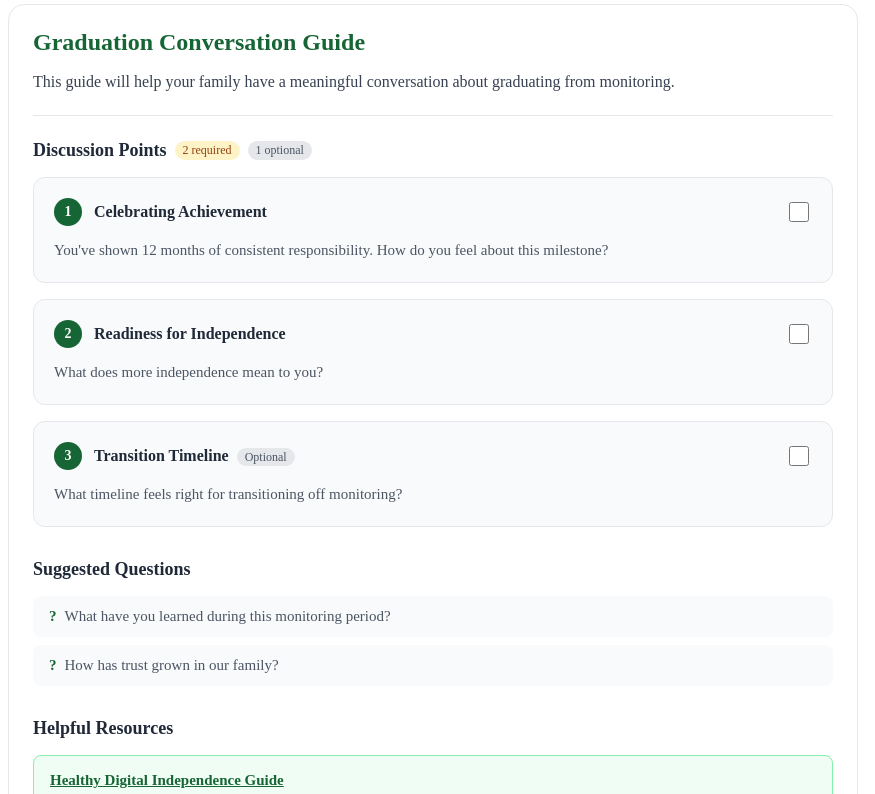
Scenario: GraduationConversationGuide - Story 38.2 Task 6 › discussion point checkboxes › shows progress when topics are checked
Click the checkbox named "Mark \"Celebrating Achievement\" as discussed": (799, 212) [789,202,809,222]
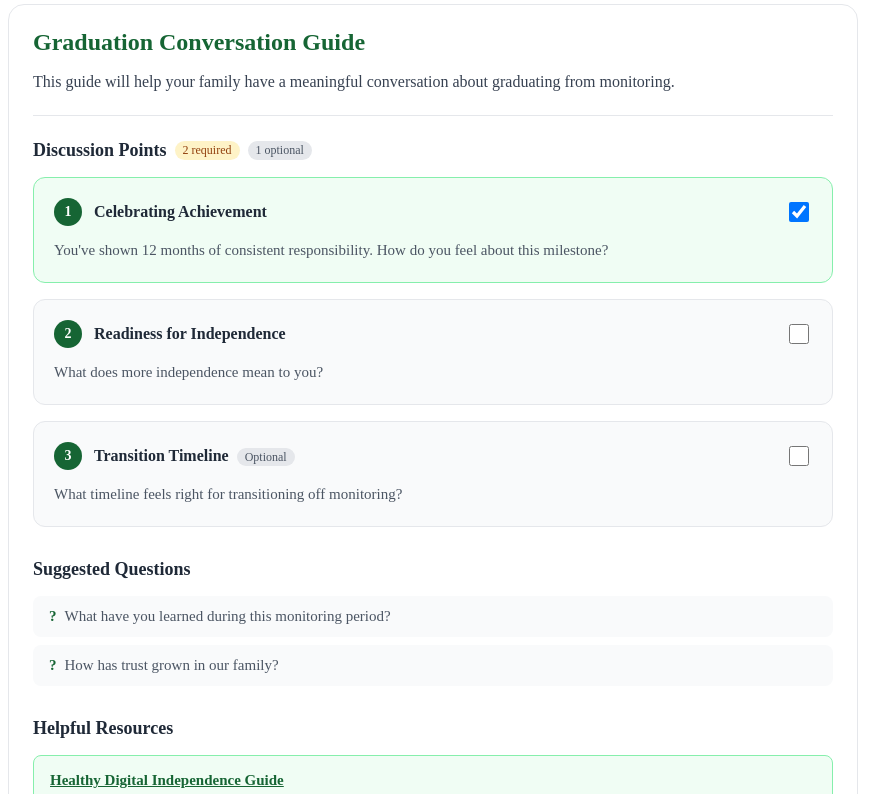
Click the checkbox named "Mark \"Readiness for Independence\" as discussed": (799, 334) [789,324,809,344]
(page scrolled)
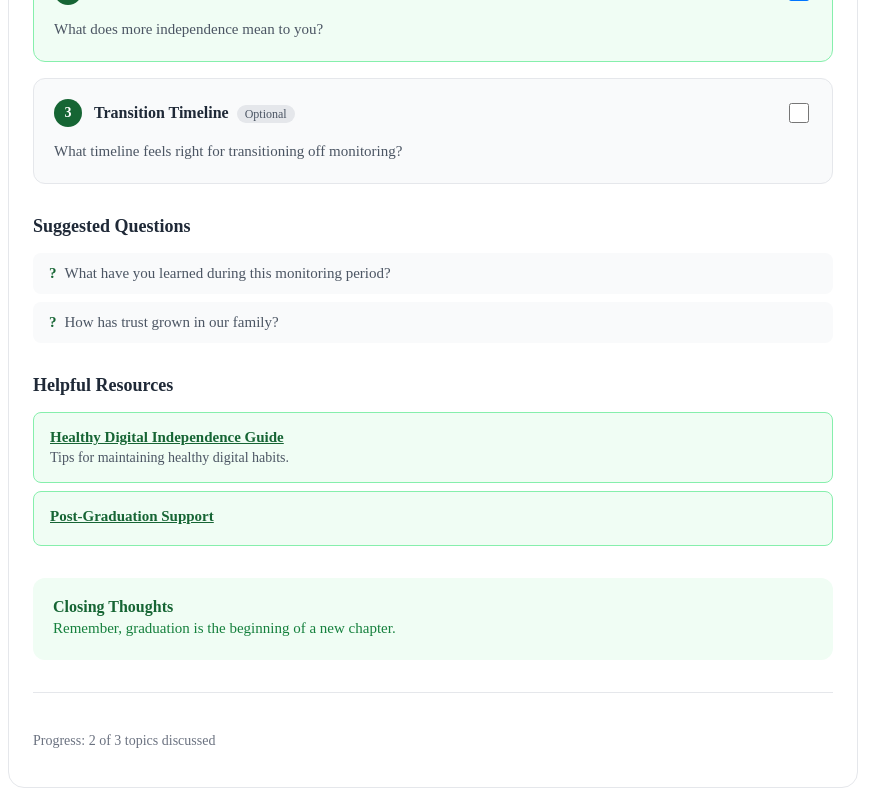
Now the text "Progress: 2 of 3 topics discussed" is shown, box [33,733,215,748]
